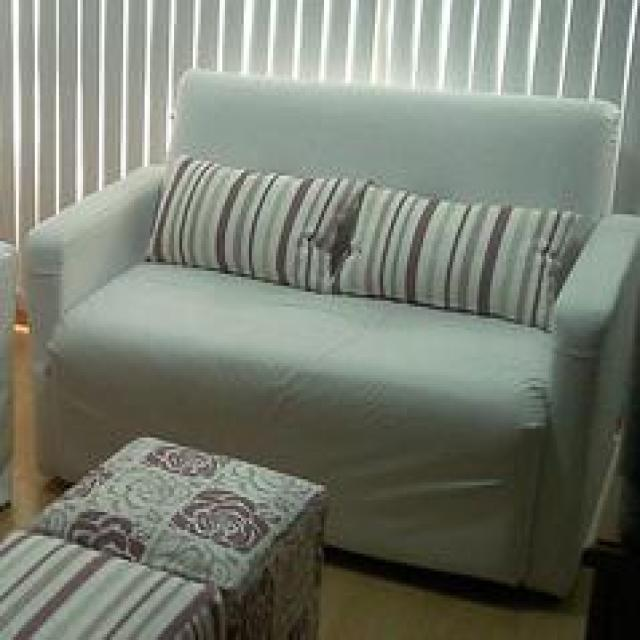sofa: (19, 63, 637, 602)
